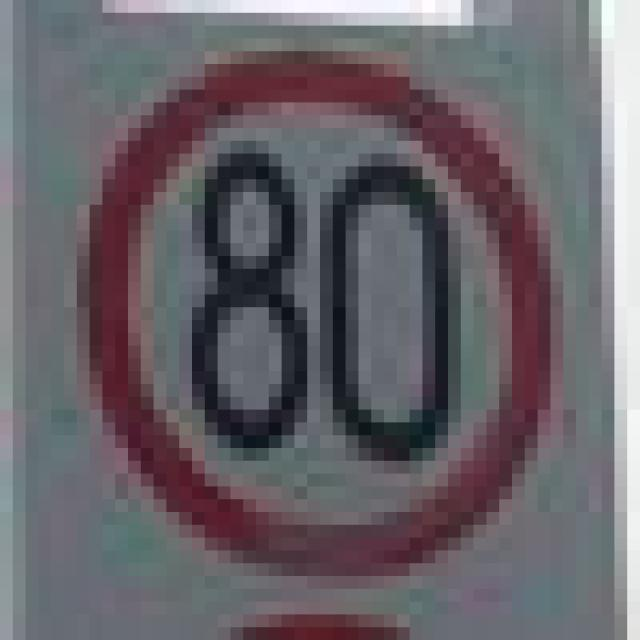speed_limit_50: (64, 38, 550, 576)
